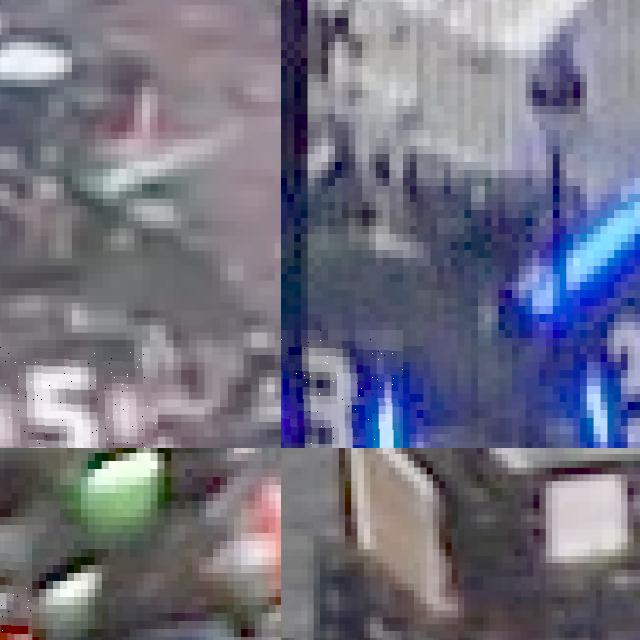B3: (281, 330, 403, 448), (573, 314, 640, 448)
R5: (0, 347, 157, 448)
